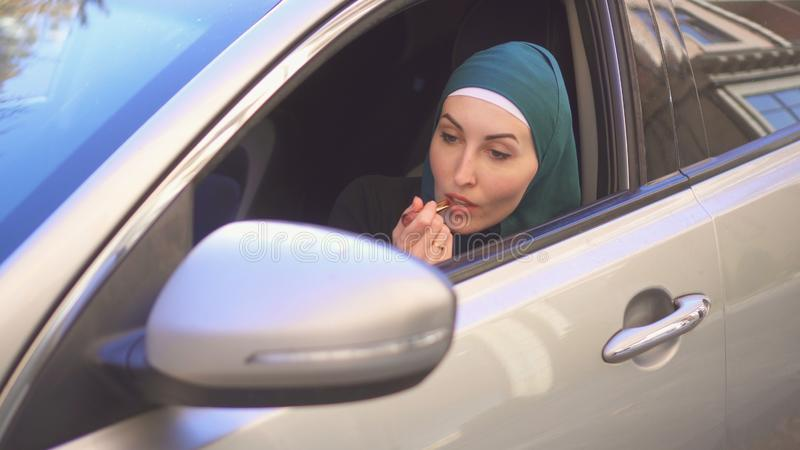No Mask: (412, 78, 557, 249)
